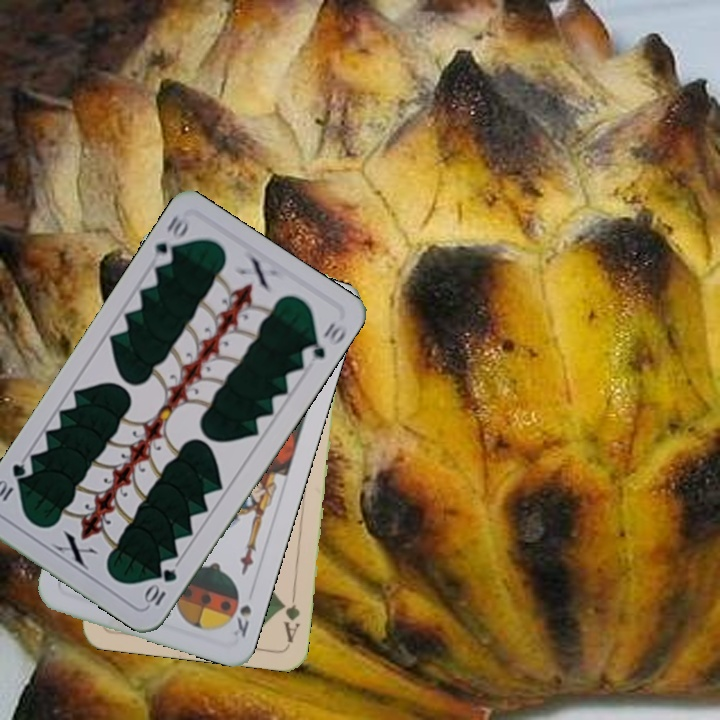G10: (147, 210, 192, 270), (139, 564, 180, 609)
GA: (277, 586, 303, 645)
SK: (229, 600, 254, 640)
